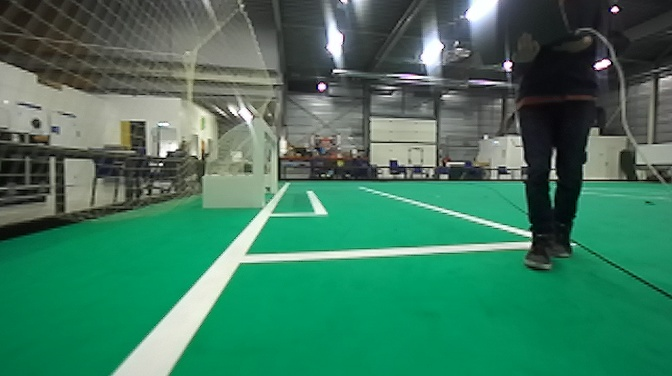goalpost: (251, 114, 265, 209), (266, 130, 283, 197)
human: (501, 2, 601, 278)
